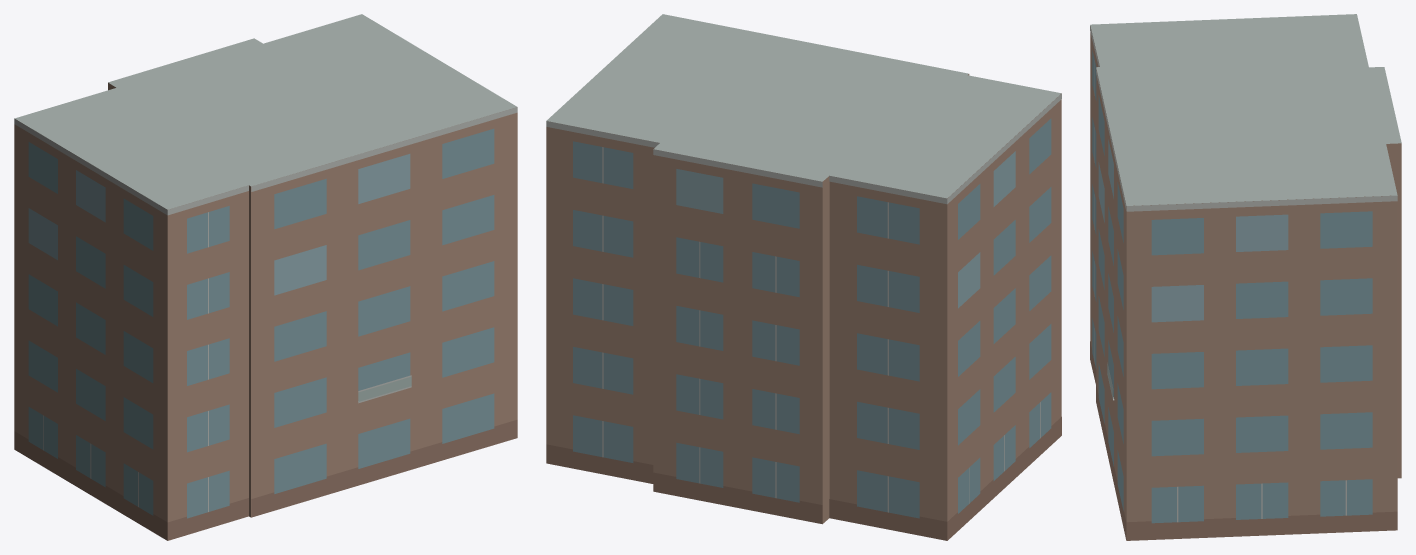
File: survey-upis-32980691.glb
3 views of the same model, side by side, from view 1: azimuth 30°, elevation 25°; view 2: azimuth 150°, elevation 25°; view 3: azimuth 270°, elevation 25° (orthographic). The views are drawn at different scales.
Parts seen in each view (by area): view 1: survey-upis-32980691.tmp; view 2: survey-upis-32980691.tmp; view 3: survey-upis-32980691.tmp.
Boxes of the visible parts, x1=… form: survey-upis-32980691.tmp: x1=14, y1=14, x2=517, y2=540; survey-upis-32980691.tmp: x1=546, y1=14, x2=1061, y2=540; survey-upis-32980691.tmp: x1=1090, y1=14, x2=1401, y2=540.
Bounding box in the file's own units: 17.54 × 14.25 × 12.03.
